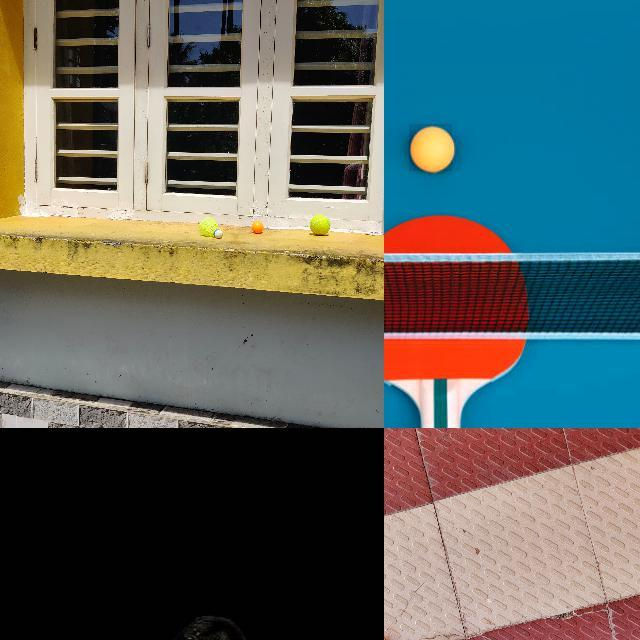ping-pong-ball: (409, 124, 453, 172), (251, 221, 263, 233)
